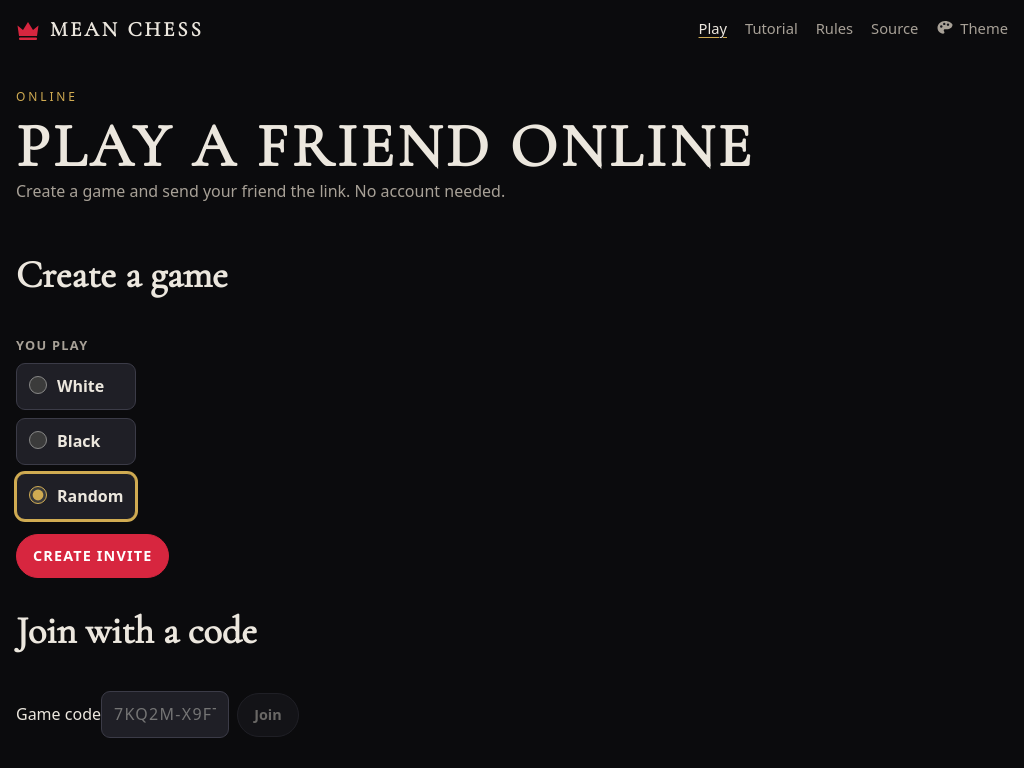
Test: the online page › offers the computer instead when online play is full for the day
The width and height of the screenshot is (1024, 768).
Click the button "Create invite".
click(93, 556)  # box [16,534,169,578]
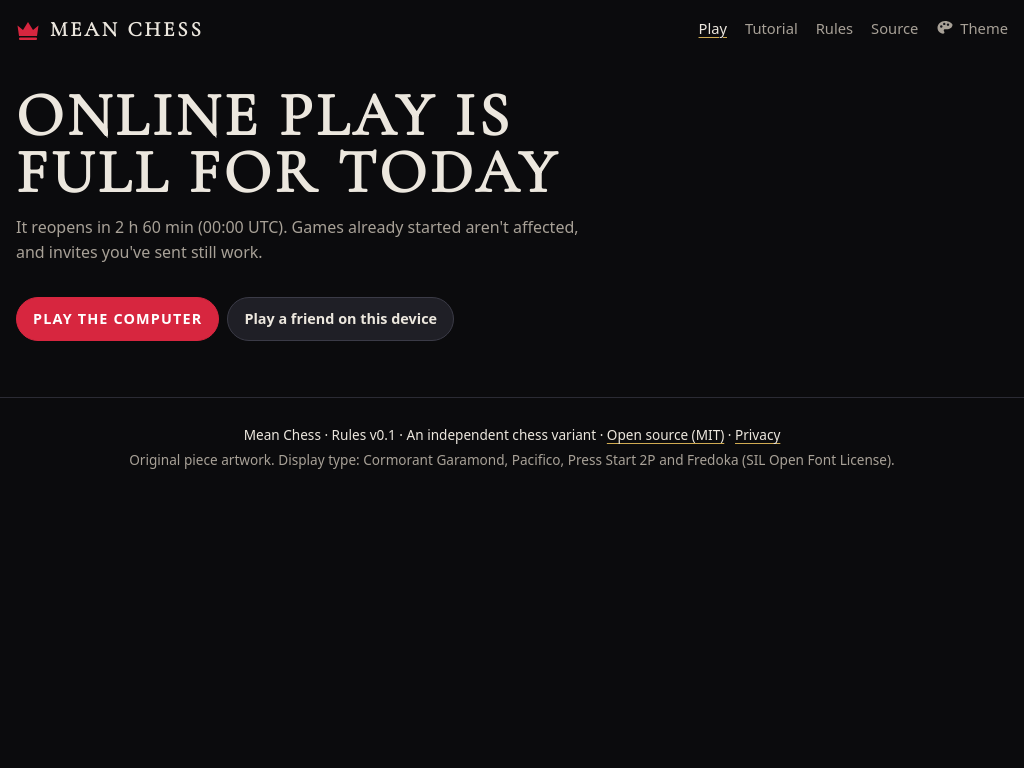
Result: the heading "Online play is full for today" is shown at [16,78,559,210]
Result: the link "Play the computer" is shown at [16,297,219,341]
